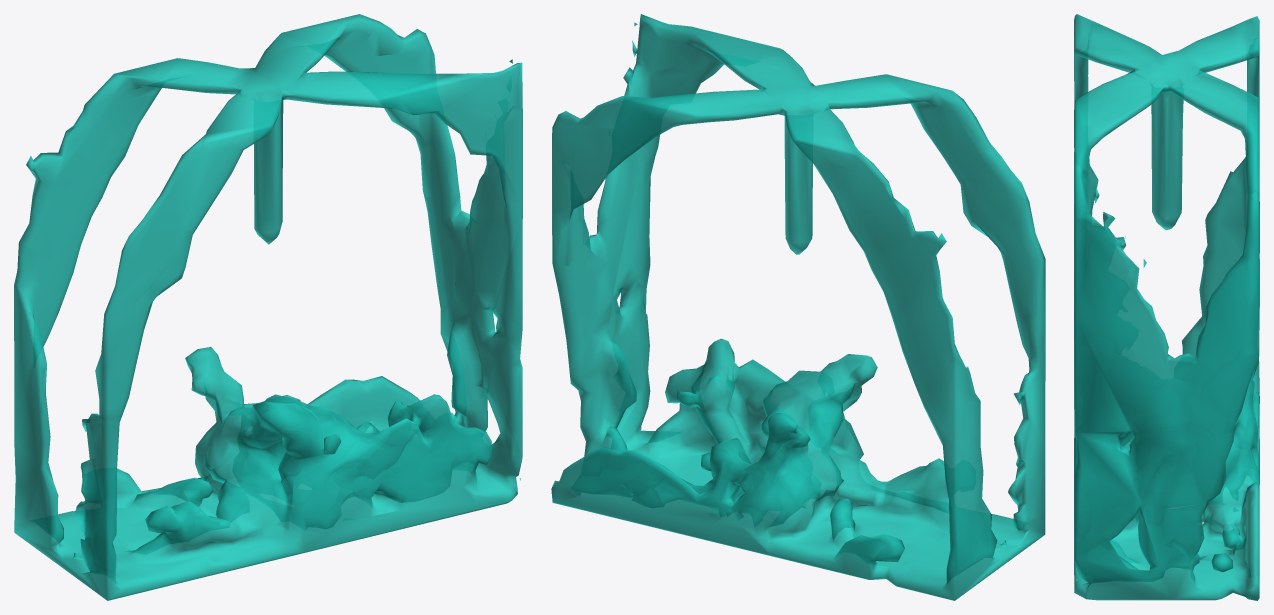
3 renders of one model, left to right at view 1: azimuth 30°, elevation 25°; view 2: azimuth 150°, elevation 25°; view 3: azimuth 270°, elevation 25°, orthographic. The views are drawn at different scales.
Visible parts, largest first — view 1: Liquid_Domain; view 2: Liquid_Domain; view 3: Liquid_Domain.
Part boxes in pixels (x1=…): Liquid_Domain: x1=14, y1=14, x2=522, y2=600; Liquid_Domain: x1=551, y1=14, x2=1045, y2=600; Liquid_Domain: x1=1074, y1=14, x2=1259, y2=600.
Size of the model in its own units: 885 by 885 by 345.
